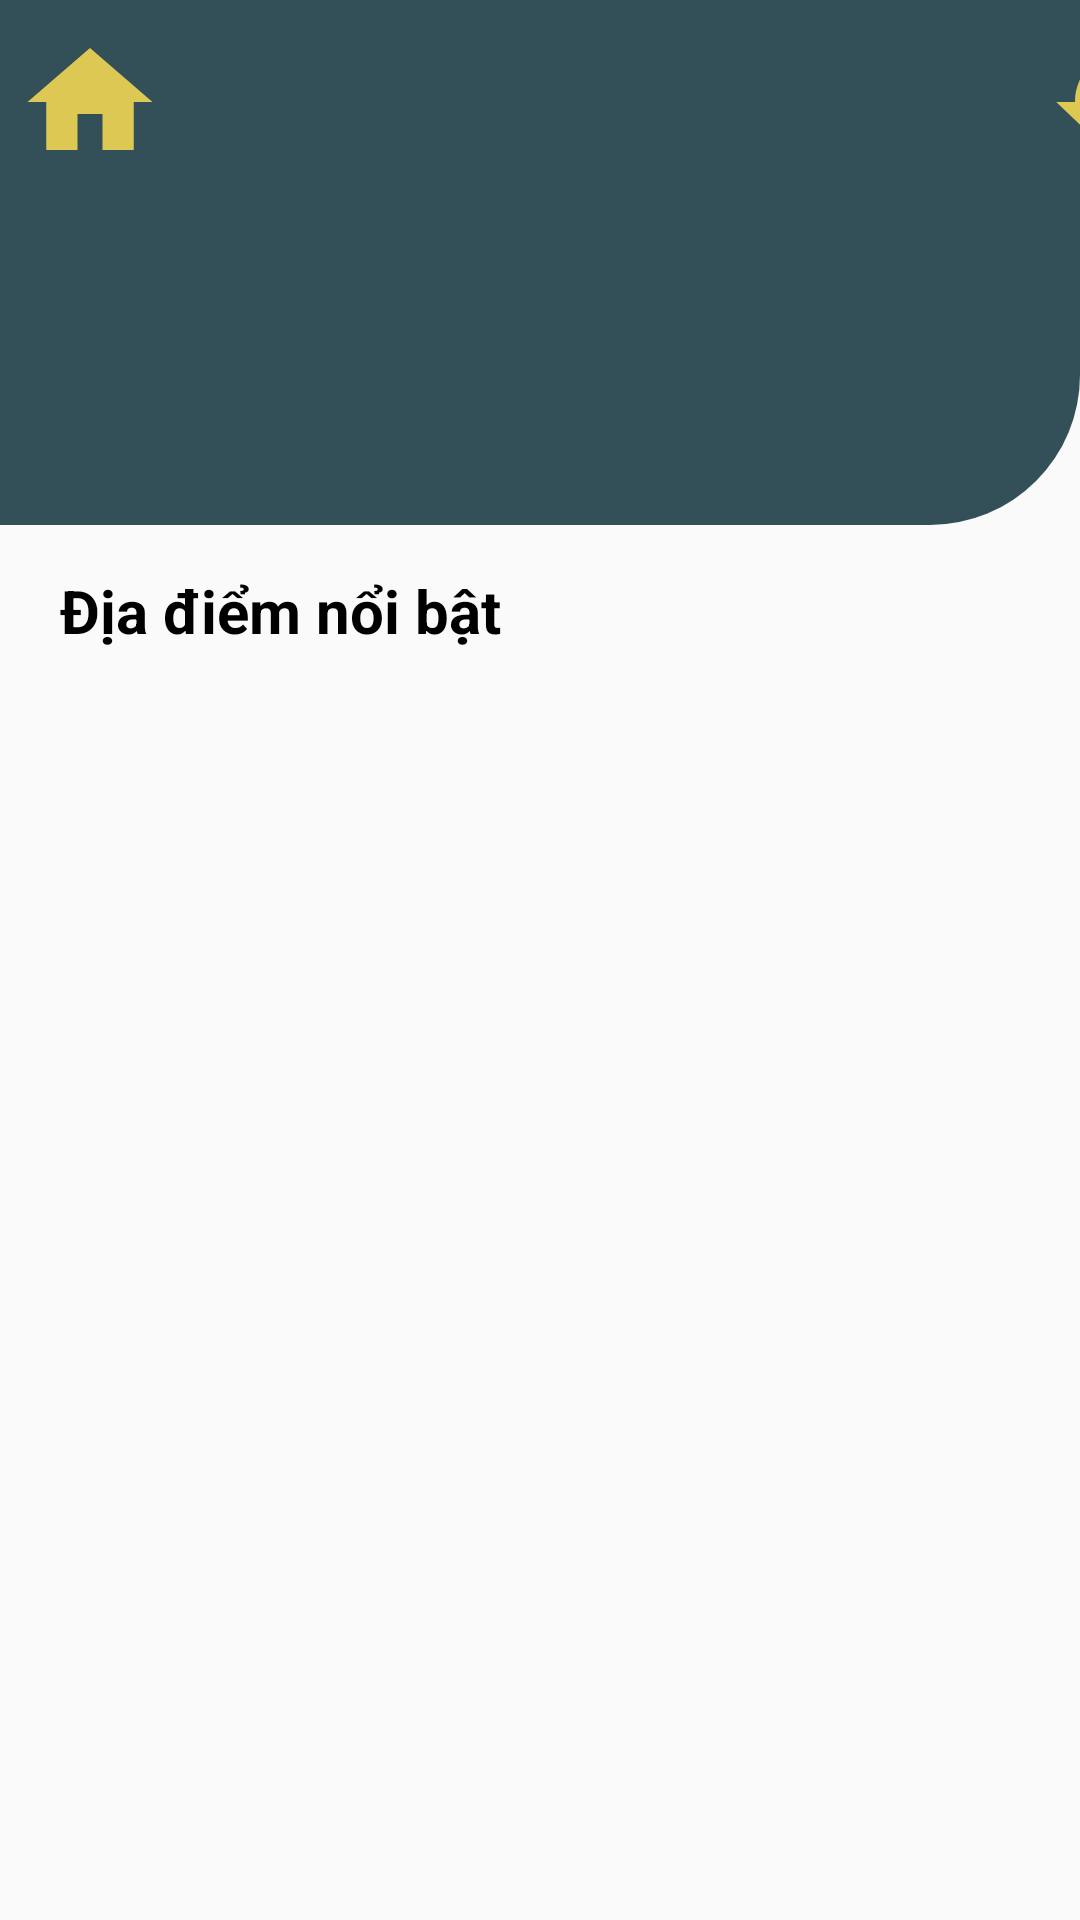

Named icons in this screenshot (1080px×1920px) and their centers, (x,y):
home: (90,99)
